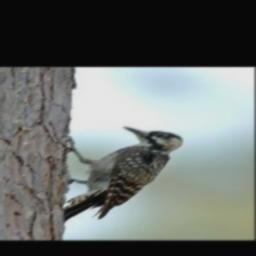Woodpecker: (51, 126, 188, 224)
